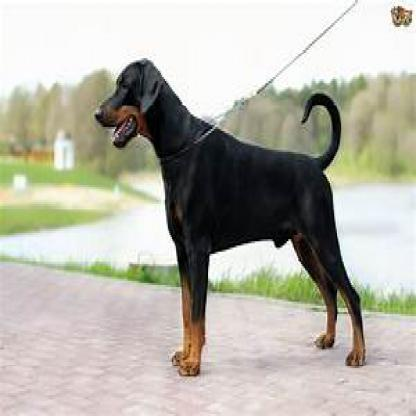dog: (92, 58, 366, 374)
